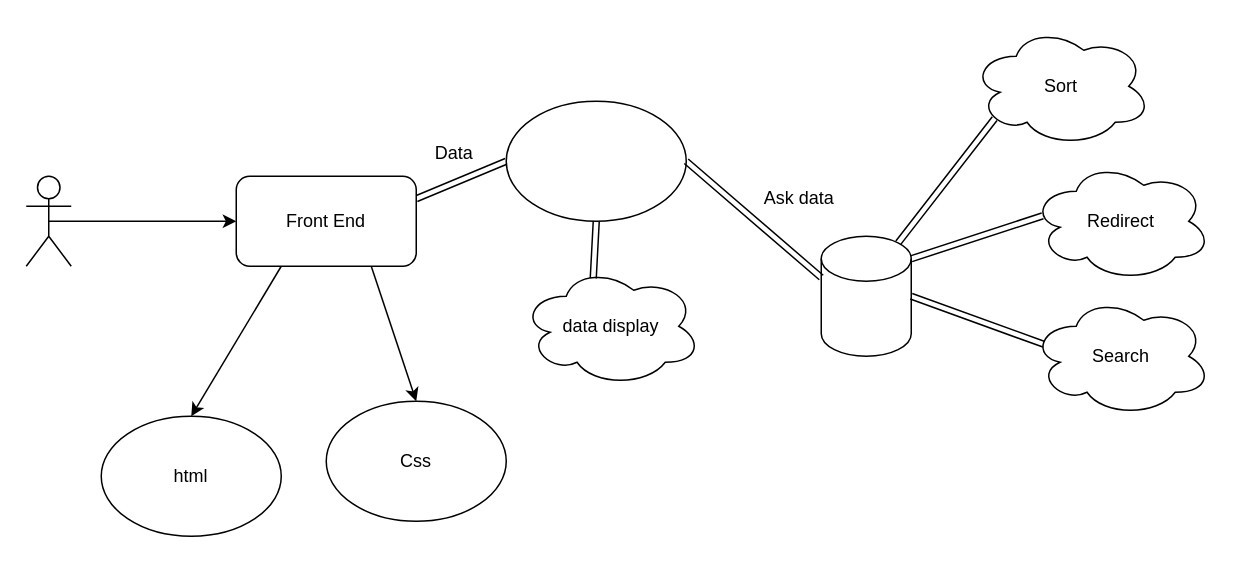
Image size: 1238x563. Some labels were removed from this diagram. Each missing label, with the centre of its shape:
Actor: the point at 48,220
Database: the point at 865,295
javascript/ajax: the point at 595,160
